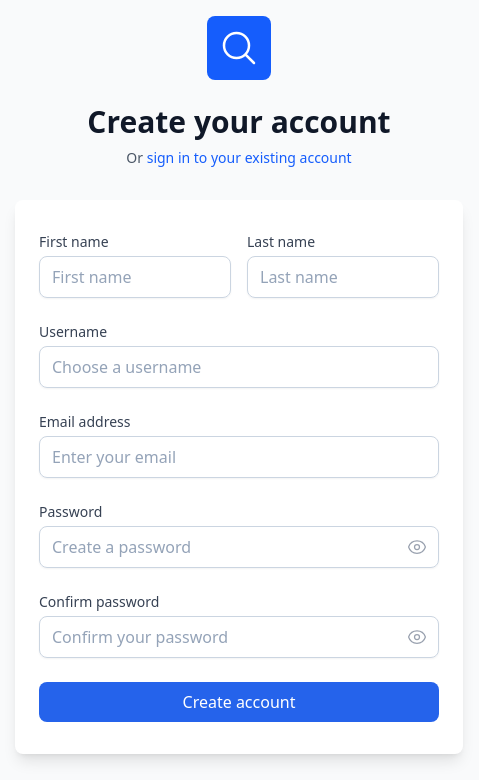
Scenario: RegisterPage › UI Elements › shows loading state during submission
# Fill form minimally
Type "John" into the field labelled "First name" at (135, 277), box top-left (39, 256), bottom-right (231, 298)
Type "Doe" into the field labelled "Last name" at (343, 277), box top-left (247, 256), bottom-right (439, 298)
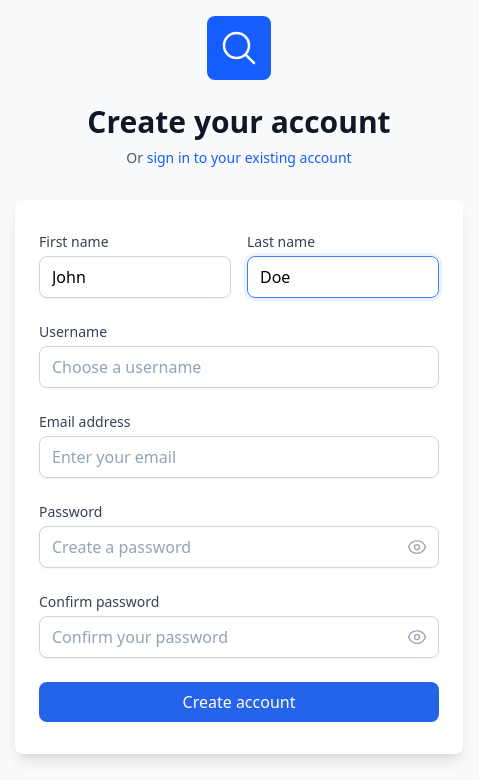
Type "johndoe" into the field labelled "Username" at (239, 367), box top-left (39, 346), bottom-right (439, 388)
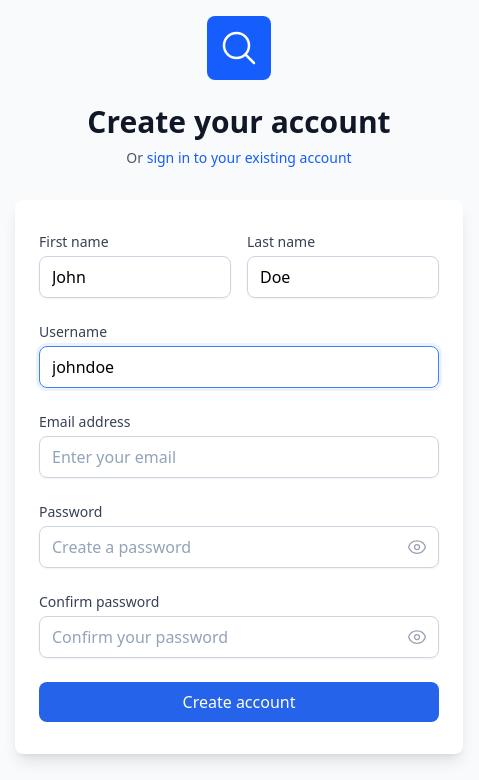
Type "john@example.com" into the field labelled "Email address" at (239, 457), box top-left (39, 436), bottom-right (439, 478)
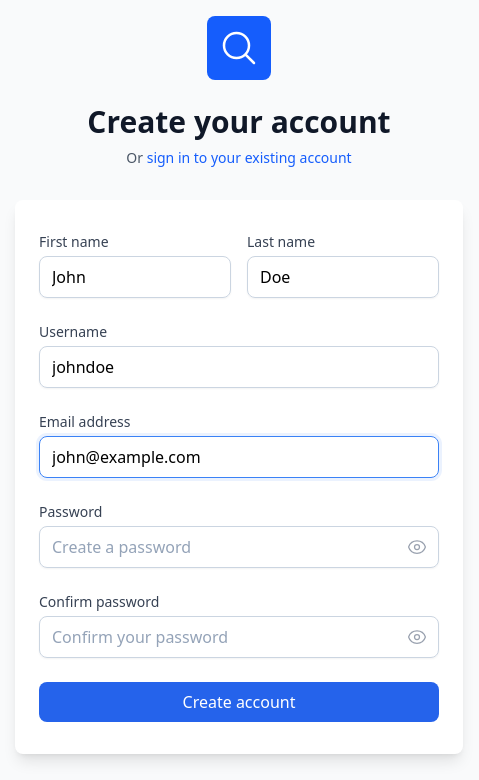
Type "Password123!" into the password field labelled "Password" at (239, 547), box top-left (39, 526), bottom-right (439, 568)
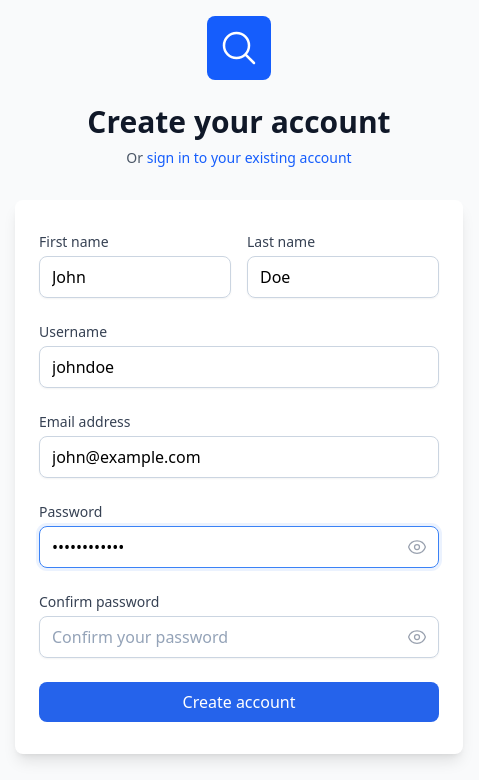
Type "Password123!" into the password field labelled "Confirm password" at (239, 637), box top-left (39, 616), bottom-right (439, 658)
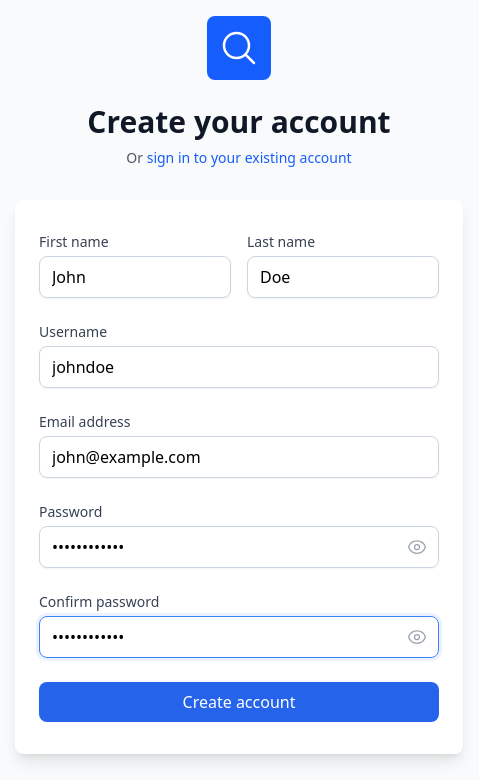
Click the button "Create account" at (239, 702), box top-left (39, 682), bottom-right (439, 722)
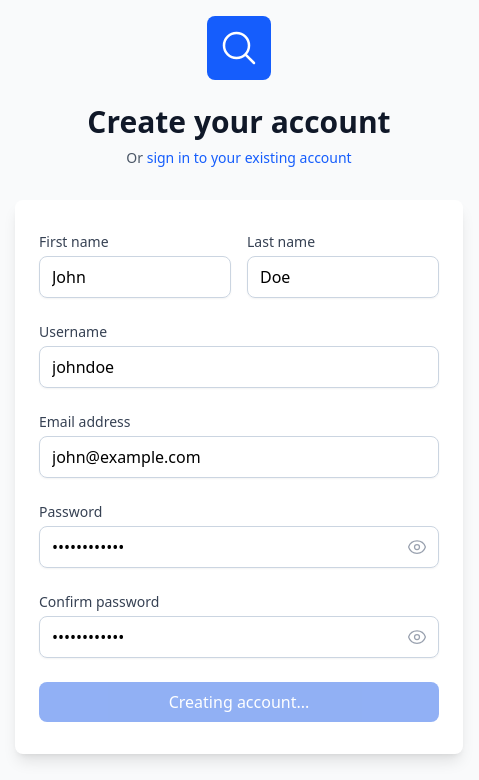
Check: the button "Creating account..." is shown, box top-left (39, 682), bottom-right (439, 722)
